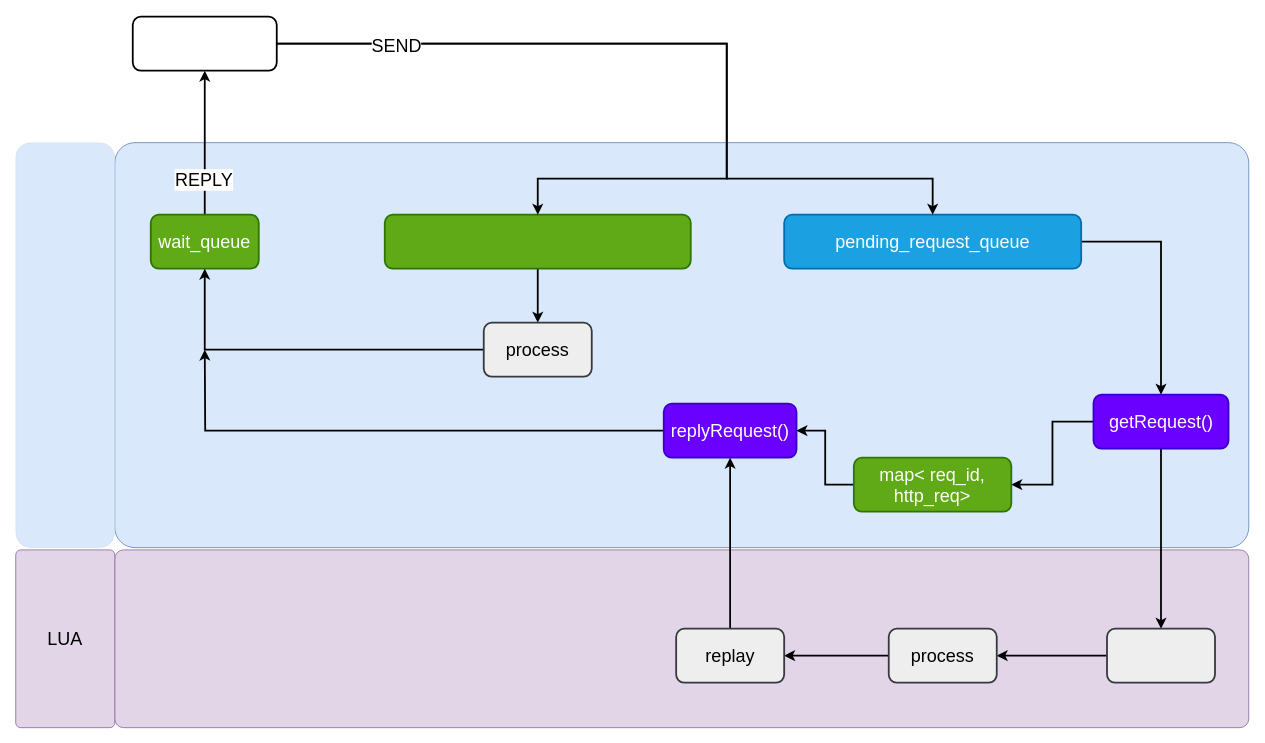
This 1265x743 diagram has some shape labels left out. The box of each missing label's shape, as (x1, y1, x2, y2) in pixels:
C++: (15, 142, 114, 547)
get: (1106, 627, 1215, 683)
Http Request: (131, 15, 277, 71)
low_level_pending_request_queue: (383, 213, 691, 269)
